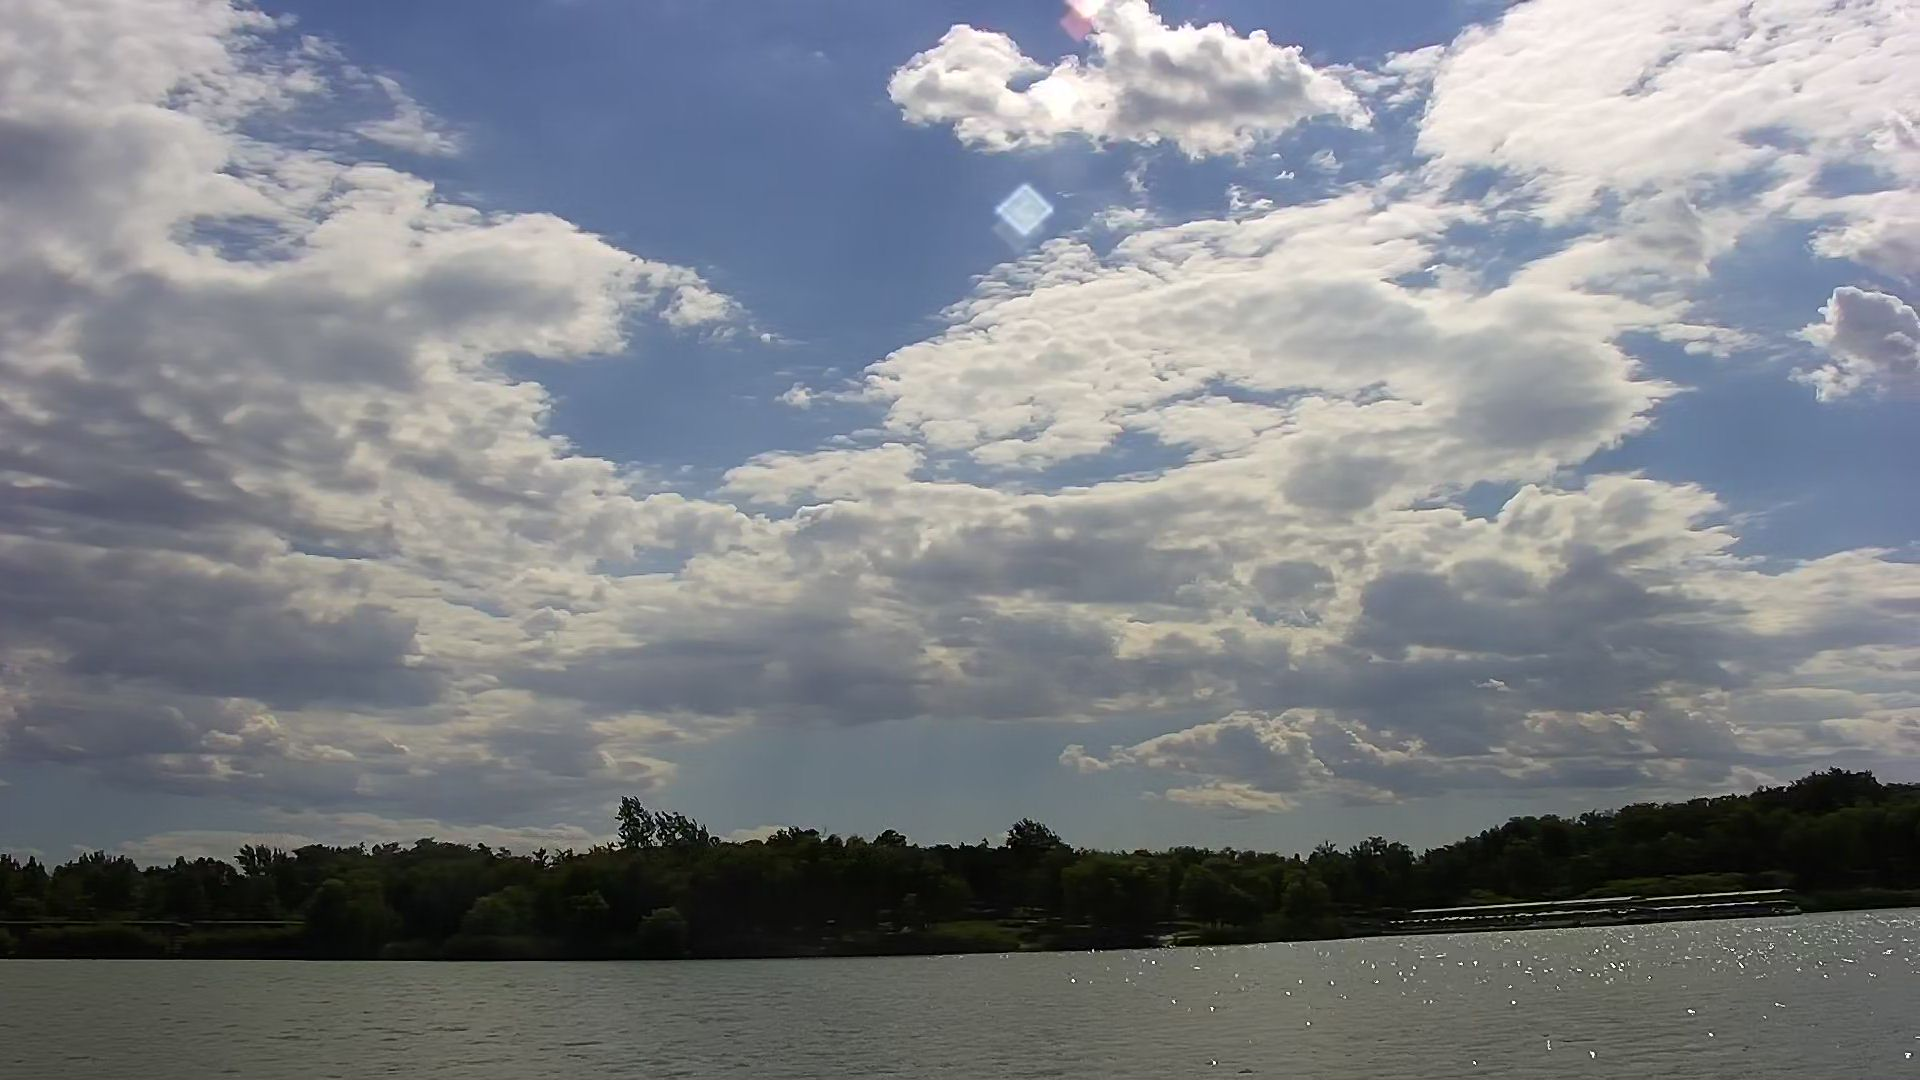harbor: (1393, 882, 1818, 934)
